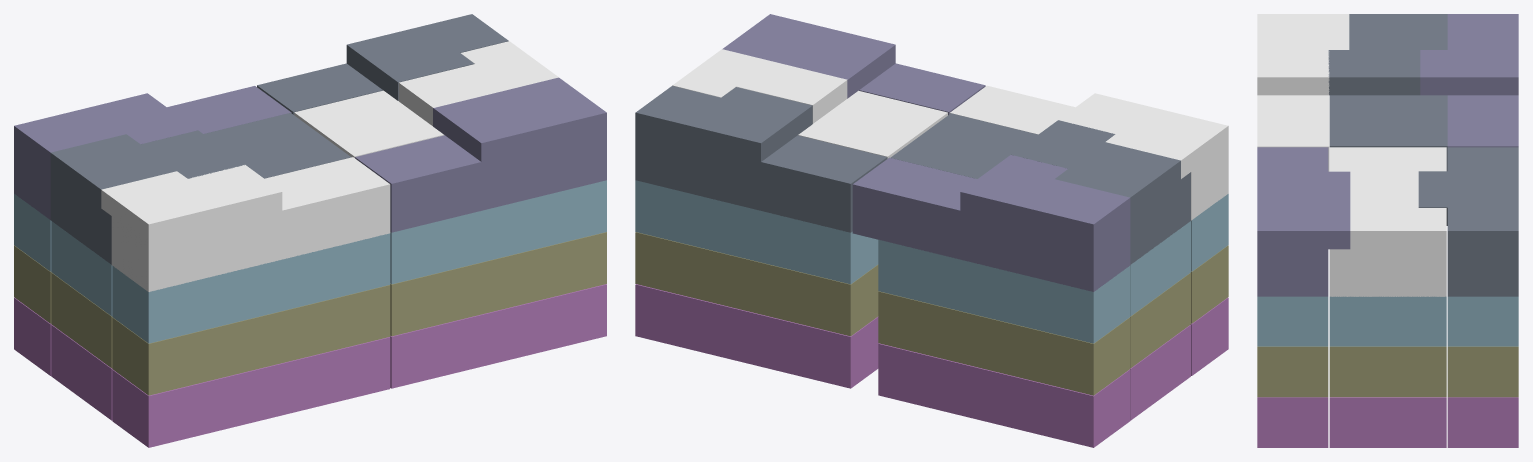
Rendered from d-hitbox.glb.
3 views of the same model, side by side, from view 1: azimuth 30°, elevation 25°; view 2: azimuth 150°, elevation 25°; view 3: azimuth 270°, elevation 25° (orthographic). The views are drawn at different scales.
Parts seen in each view (by area): view 1: Box003, Box004, Box002, Box021, Box015, Box009, Box022, Box016, Box001, Box010, Box005, Box006 (+6 smaller); view 2: Box001, Box006, Box002, Box019, Box013, Box007, Box024, Box018, Box012, Box003, Box005, Box004 (+6 smaller); view 3: Box005, Box002, Box004, Box006, Box001, Box003, Box017, Box023, Box011, Box016, Box018, Box022 (+3 smaller).
Part boxes in pixels (x1,y1,x2,y2): Box003: [101, 157, 390, 291]; Box004: [355, 77, 606, 232]; Box002: [50, 113, 351, 264]; Box021: [112, 337, 390, 447]; Box015: [112, 285, 390, 395]; Box009: [112, 233, 390, 343]; Box022: [390, 284, 606, 388]; Box016: [390, 232, 606, 336]; Box001: [14, 86, 291, 219]; Box010: [390, 180, 606, 284]; Box005: [294, 41, 558, 157]; Box006: [257, 14, 508, 114]; Box001: [852, 155, 1130, 291]; Box006: [635, 86, 887, 232]; Box002: [890, 113, 1190, 264]; Box019: [878, 343, 1130, 447]; Box013: [878, 291, 1130, 395]; Box007: [878, 239, 1130, 343]; Box024: [635, 284, 878, 388]; Box018: [635, 232, 878, 336]; Box012: [635, 180, 878, 284]; Box003: [949, 85, 1228, 220]; Box005: [672, 49, 947, 158]; Box004: [722, 14, 985, 115]; Box005: [1329, 147, 1446, 296]; Box002: [1328, 14, 1447, 171]; Box004: [1257, 147, 1350, 296]; Box006: [1418, 147, 1518, 296]; Box001: [1420, 14, 1518, 147]; Box003: [1257, 14, 1349, 171]; Box017: [1329, 346, 1446, 397]; Box023: [1329, 397, 1446, 447]; Box011: [1329, 296, 1446, 346]; Box016: [1257, 346, 1328, 397]; Box018: [1447, 346, 1518, 397]; Box022: [1257, 397, 1328, 447].
Size of the model in its own units: 32.25 by 15.03 by 16.42.
